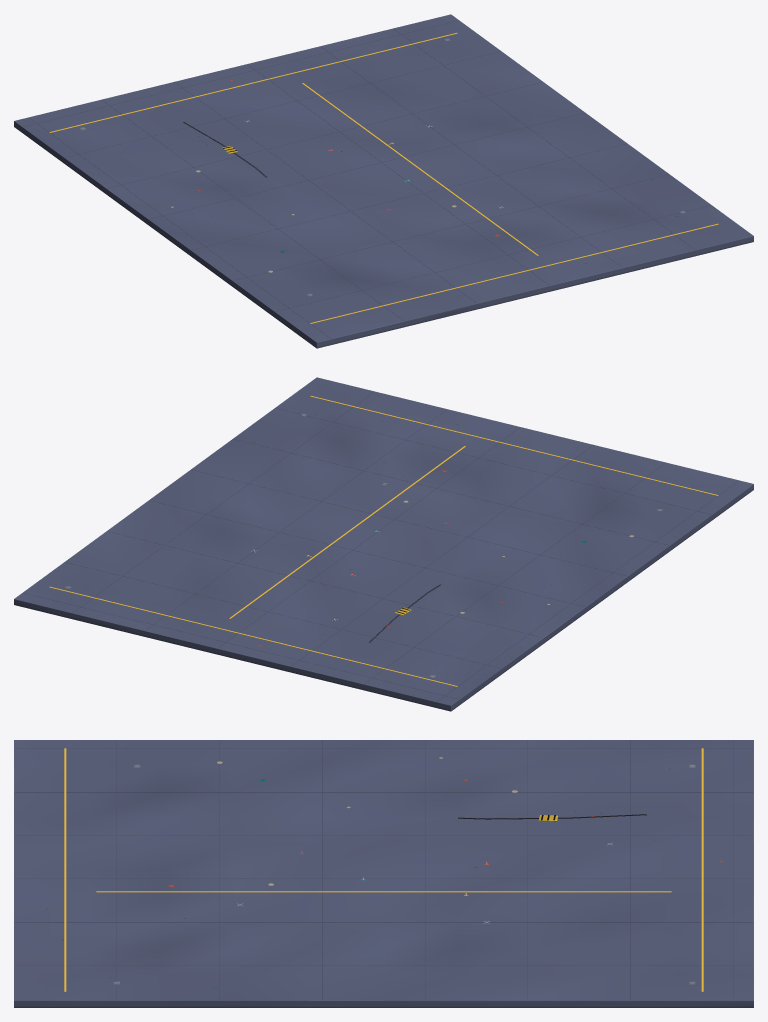
Rendered from SM_Stage4_Floor.fbx.
3 renders of one model, top to bottom at view 1: azimuth 30°, elevation 25°; view 2: azimuth 150°, elevation 25°; view 3: azimuth 270°, elevation 25°, orthographic. The views are drawn at different scales.
Parts seen in each view (by area): view 1: SM_Stage4_Floor; view 2: SM_Stage4_Floor; view 3: SM_Stage4_Floor.
Part boxes in pixels (left/top/right/bottom): SM_Stage4_Floor: left=14, top=14, right=753, bottom=348; SM_Stage4_Floor: left=14, top=377, right=753, bottom=711; SM_Stage4_Floor: left=14, top=740, right=753, bottom=1007.
Size of the model in its own units: 3000 by 45.6 by 3600.
